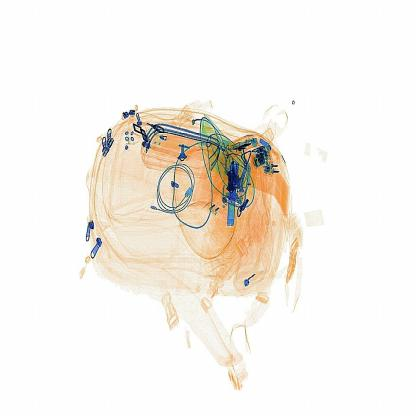pliers: (224, 159, 247, 237)
